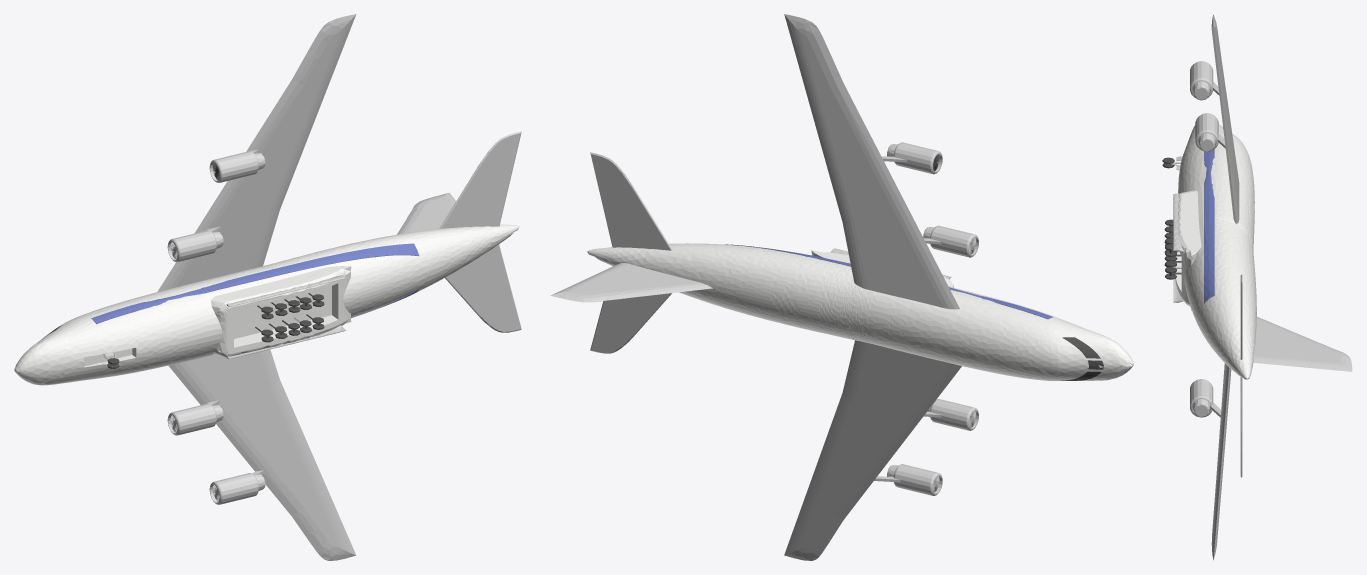
The picture shows the model from 3 angles, left to right: view 1: azimuth 30°, elevation 25°; view 2: azimuth 150°, elevation 25°; view 3: azimuth 270°, elevation 25°; orthographic projection.
Visible parts, largest first — view 1: Node3, Node4, Node5, Node2; view 2: Node3, Node4, Node2; view 3: Node4, Node3, Node5, Node2.
Part boxes in pixels (x1=…): Node3: x1=101, y1=14, x2=521, y2=560; Node4: x1=14, y1=224, x2=518, y2=385; Node5: x1=91, y1=243, x2=419, y2=324; Node2: x1=44, y1=163, x2=324, y2=368; Node3: x1=550, y1=14, x2=978, y2=560; Node4: x1=587, y1=243, x2=1133, y2=380; Node2: x1=933, y1=154, x2=1103, y2=380; Node4: x1=1175, y1=124, x2=1256, y2=379; Node3: x1=1170, y1=14, x2=1352, y2=560; Node5: x1=1204, y1=149, x2=1214, y2=303; Node2: x1=1162, y1=128, x2=1223, y2=279.
Size of the model in its own units: 10.78 by 10.64 by 3.42.
